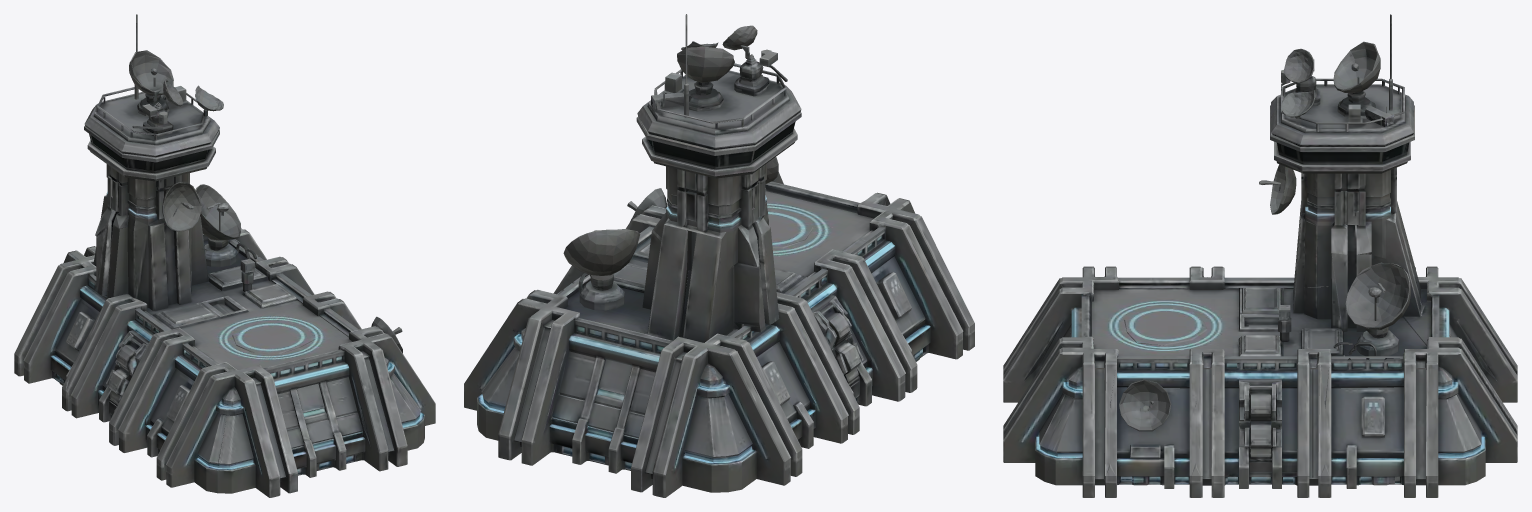
Rendered from headquarters_LOD0.glb.
3 views of the same model, side by side, from view 1: azimuth 30°, elevation 25°; view 2: azimuth 150°, elevation 25°; view 3: azimuth 270°, elevation 25° (orthographic). The views are drawn at different scales.
Visible parts, largest first — view 1: headquarters_LOD0; view 2: headquarters_LOD0; view 3: headquarters_LOD0.
Part boxes in pixels (<box>): headquarters_LOD0: <box>14,14,435,497</box>; headquarters_LOD0: <box>464,14,974,497</box>; headquarters_LOD0: <box>1003,14,1517,497</box>.
Size of the model in its own units: 0.6712 by 0.8454 by 1.
1 material, 1 textured.
